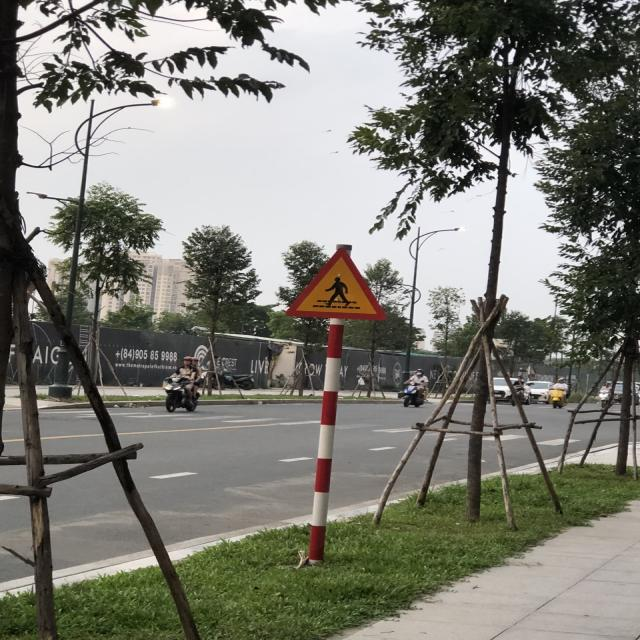Bien bao duong nguoi di bo cat ngang: (272, 240, 396, 328)
